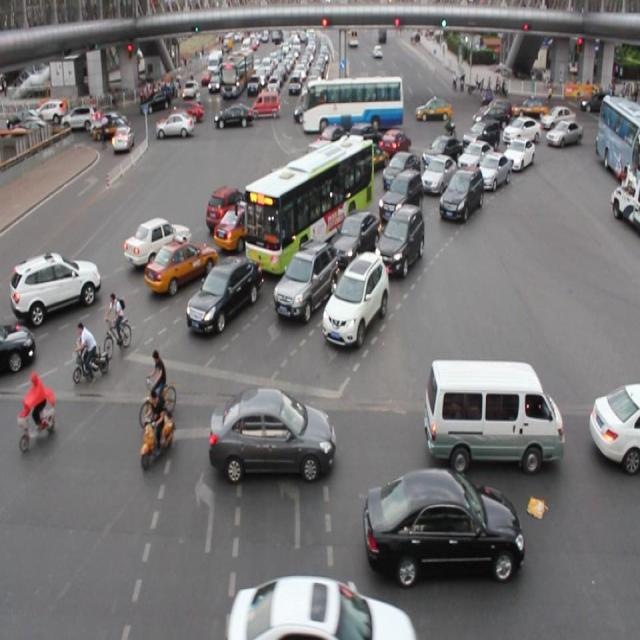car: (364, 465, 522, 585), (210, 386, 335, 483), (227, 576, 414, 640), (12, 251, 101, 324), (321, 250, 388, 343), (186, 253, 260, 334), (274, 240, 337, 318), (587, 380, 640, 470), (146, 236, 216, 295), (123, 216, 190, 268), (377, 203, 423, 272), (328, 211, 380, 268), (214, 203, 273, 251), (267, 180, 325, 225), (205, 186, 260, 232), (438, 165, 482, 222), (262, 168, 315, 215), (377, 167, 422, 221), (316, 160, 369, 200), (421, 135, 463, 178), (1, 322, 35, 372), (382, 149, 420, 190), (458, 138, 493, 182), (420, 154, 455, 196), (345, 123, 384, 159), (478, 151, 510, 192), (462, 118, 498, 152), (350, 140, 388, 172), (501, 115, 539, 147), (502, 136, 533, 171), (317, 125, 349, 156), (379, 129, 410, 160)
truck: (425, 357, 561, 473), (303, 140, 353, 188)
van: (244, 138, 374, 273)
